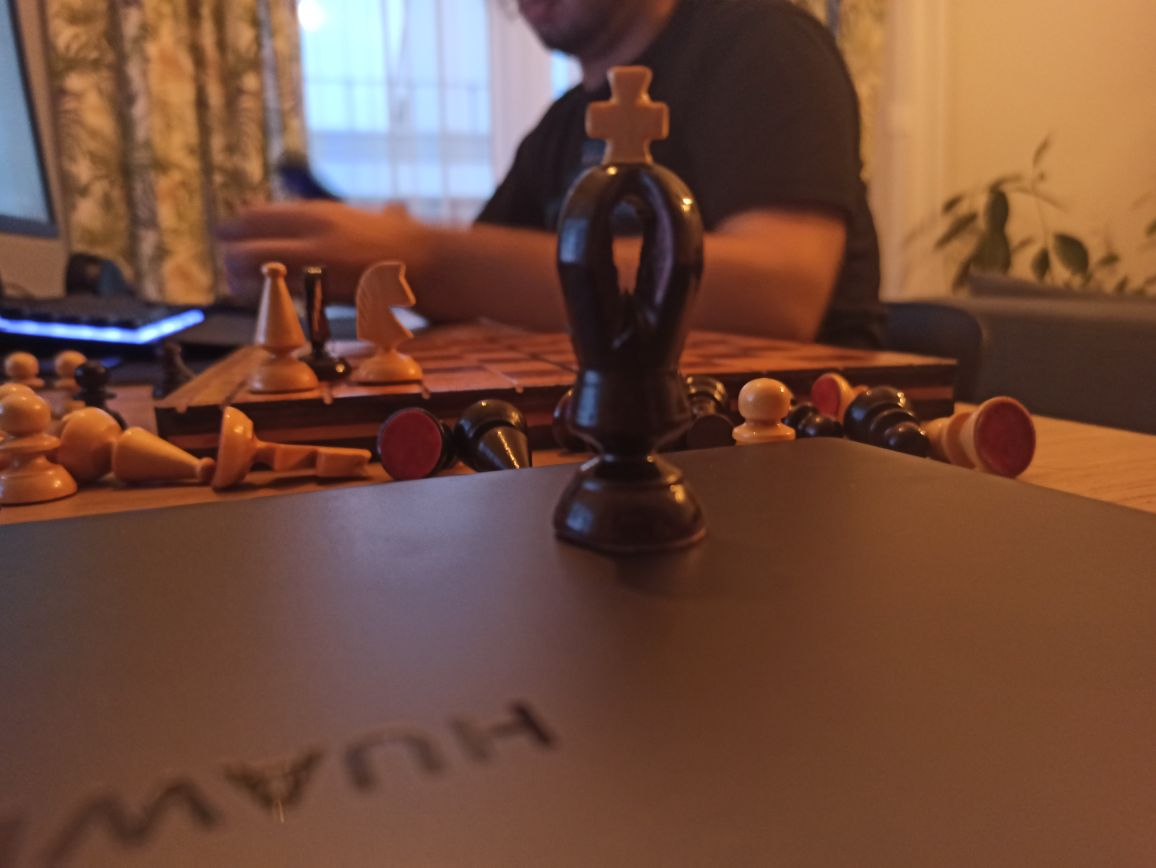bking: (554, 62, 705, 552)
